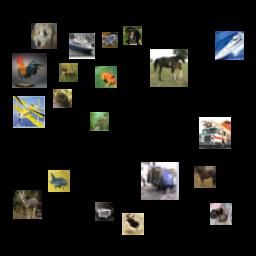airplane: (13, 96, 45, 128), (48, 170, 70, 192)
automobile: (95, 202, 114, 221), (102, 32, 118, 48)
bird: (12, 53, 47, 88), (90, 112, 109, 131)
cat: (210, 203, 232, 225)
deer: (13, 190, 42, 219), (122, 213, 144, 235), (59, 63, 78, 82)
dog: (31, 23, 57, 49), (123, 26, 142, 45)
frog: (95, 66, 117, 88), (53, 89, 72, 108)
ship: (215, 31, 244, 60), (69, 33, 95, 59)
truck: (141, 162, 179, 200), (199, 117, 231, 149)
